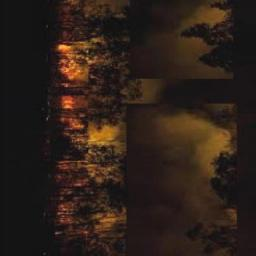Low smoke: (95, 0, 228, 256)
Small fire: (56, 0, 116, 256)
